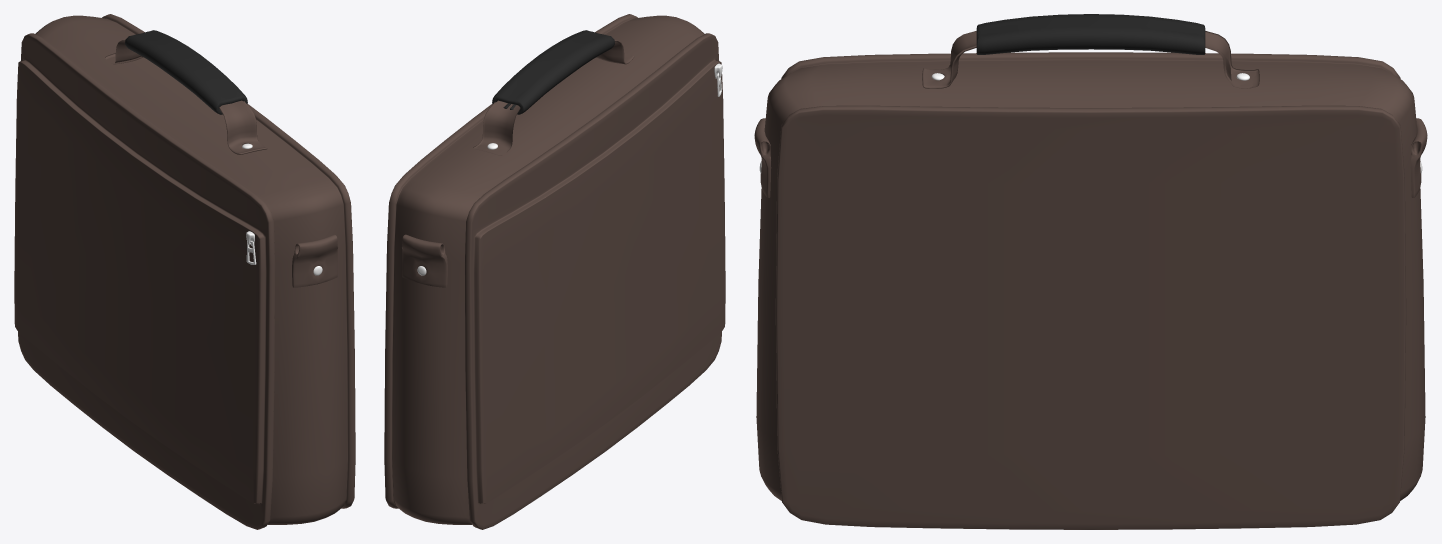
The model's file is SM_Bag.glb.
3 renders of one model, left to right at view 1: azimuth 30°, elevation 25°; view 2: azimuth 150°, elevation 25°; view 3: azimuth 270°, elevation 25°, orthographic. The views are drawn at different scales.
Parts seen in each view (by area): view 1: SM_Bag; view 2: SM_Bag; view 3: SM_Bag.
Boxes of the visible parts, <box> form: SM_Bag: <box>14,14,355,529</box>; SM_Bag: <box>384,14,725,529</box>; SM_Bag: <box>754,14,1427,529</box>.
Bounding box in the file's own units: 0.1063 × 0.3454 × 0.4415.
